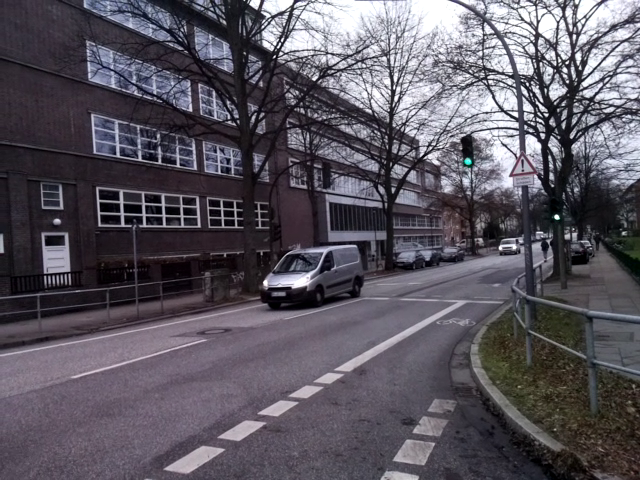car: (259, 245, 373, 310)
